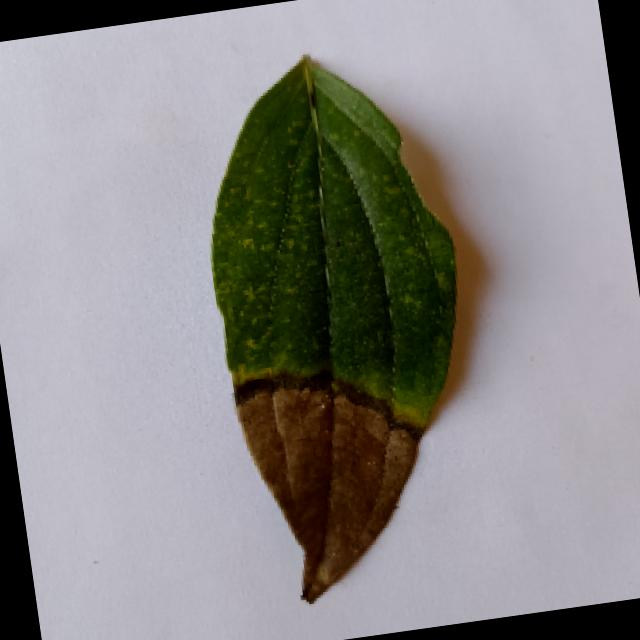footrot: (184, 39, 506, 614)
